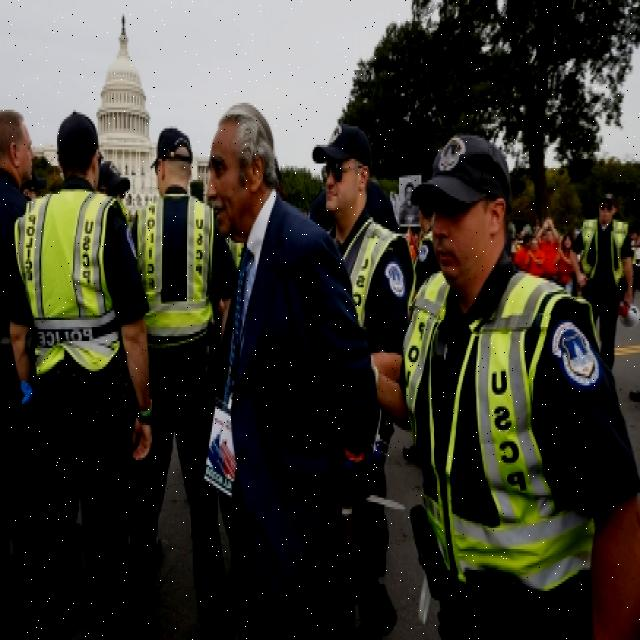police: (413, 105, 627, 640), (22, 58, 152, 640), (117, 117, 209, 640), (314, 110, 398, 504), (561, 147, 640, 381)
